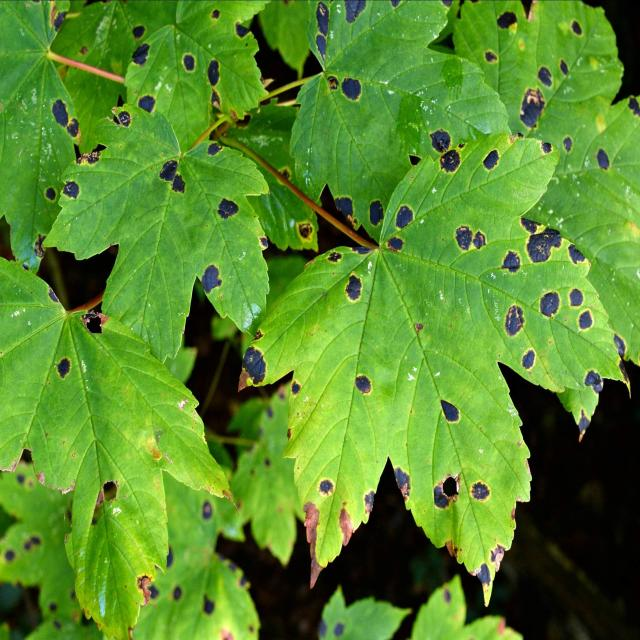Tar_Spot: (50, 33, 638, 640)
